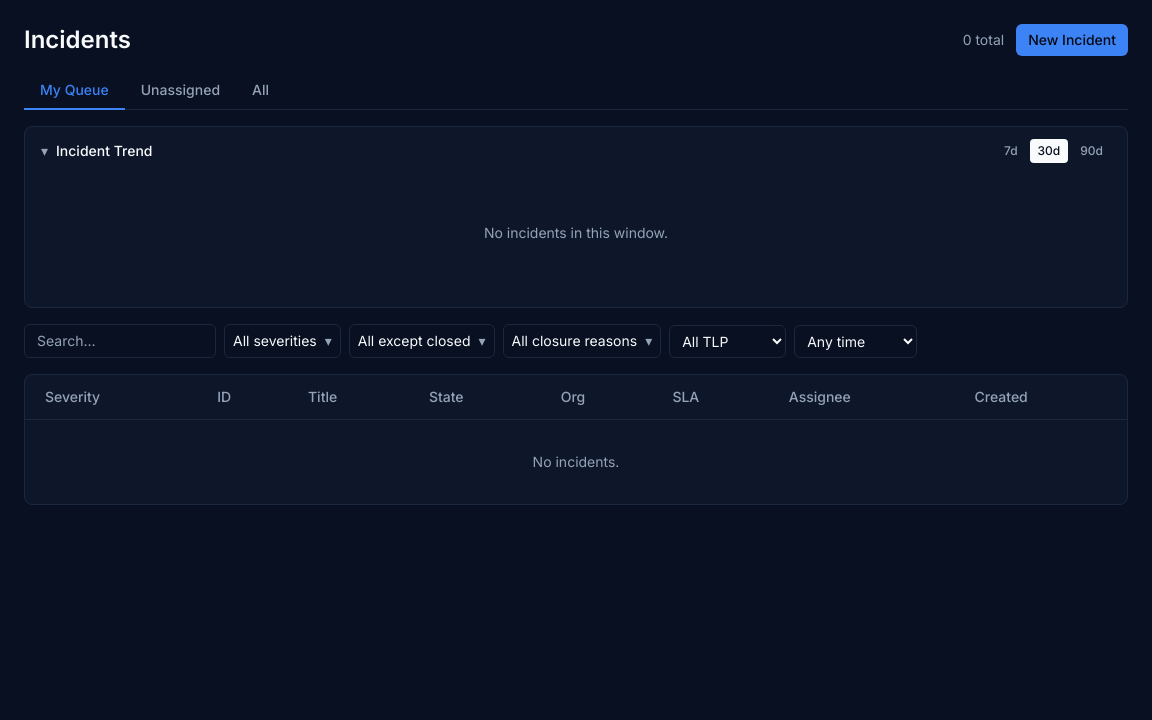
it: IncidentList › default state selection excludes only closed (no state param sent)
Click the button with aria-label "State filter" at {"x": 422, "y": 341}, box [349,324,495,358]
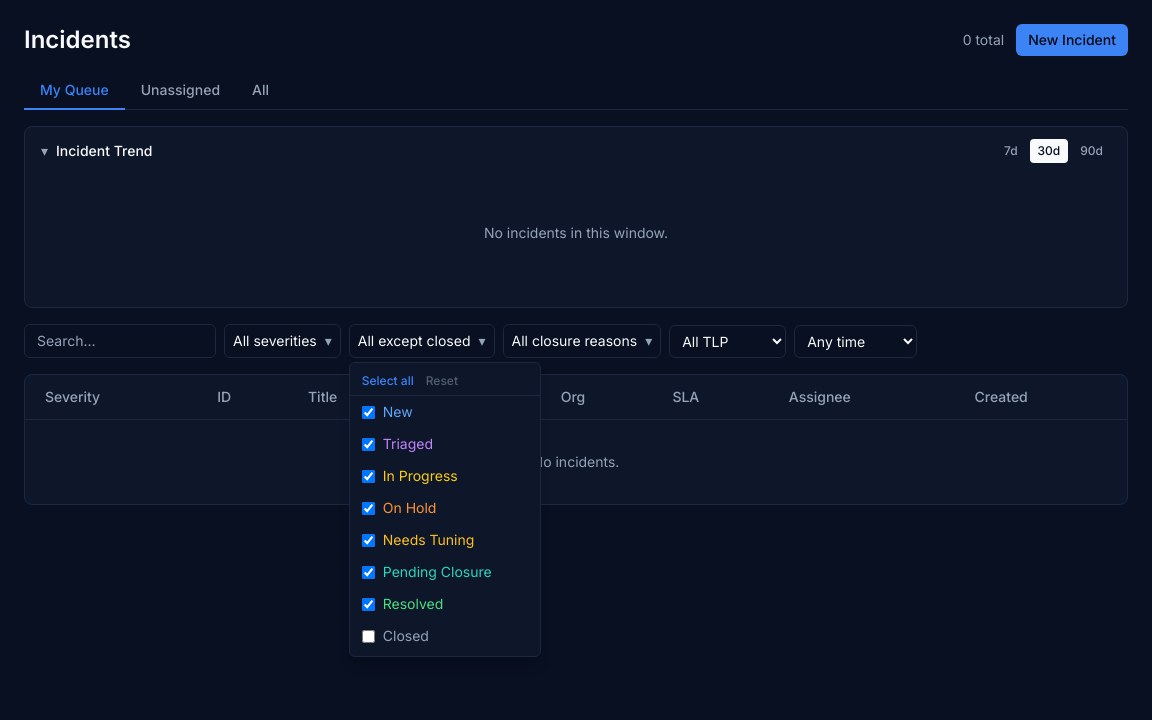
Now the checkbox labelled "new" is checked, box [362,406,375,418]
Now the checkbox labelled "triaged" is checked, box [362,438,375,450]
Now the checkbox named "in_progress" is checked, box [362,470,375,482]
